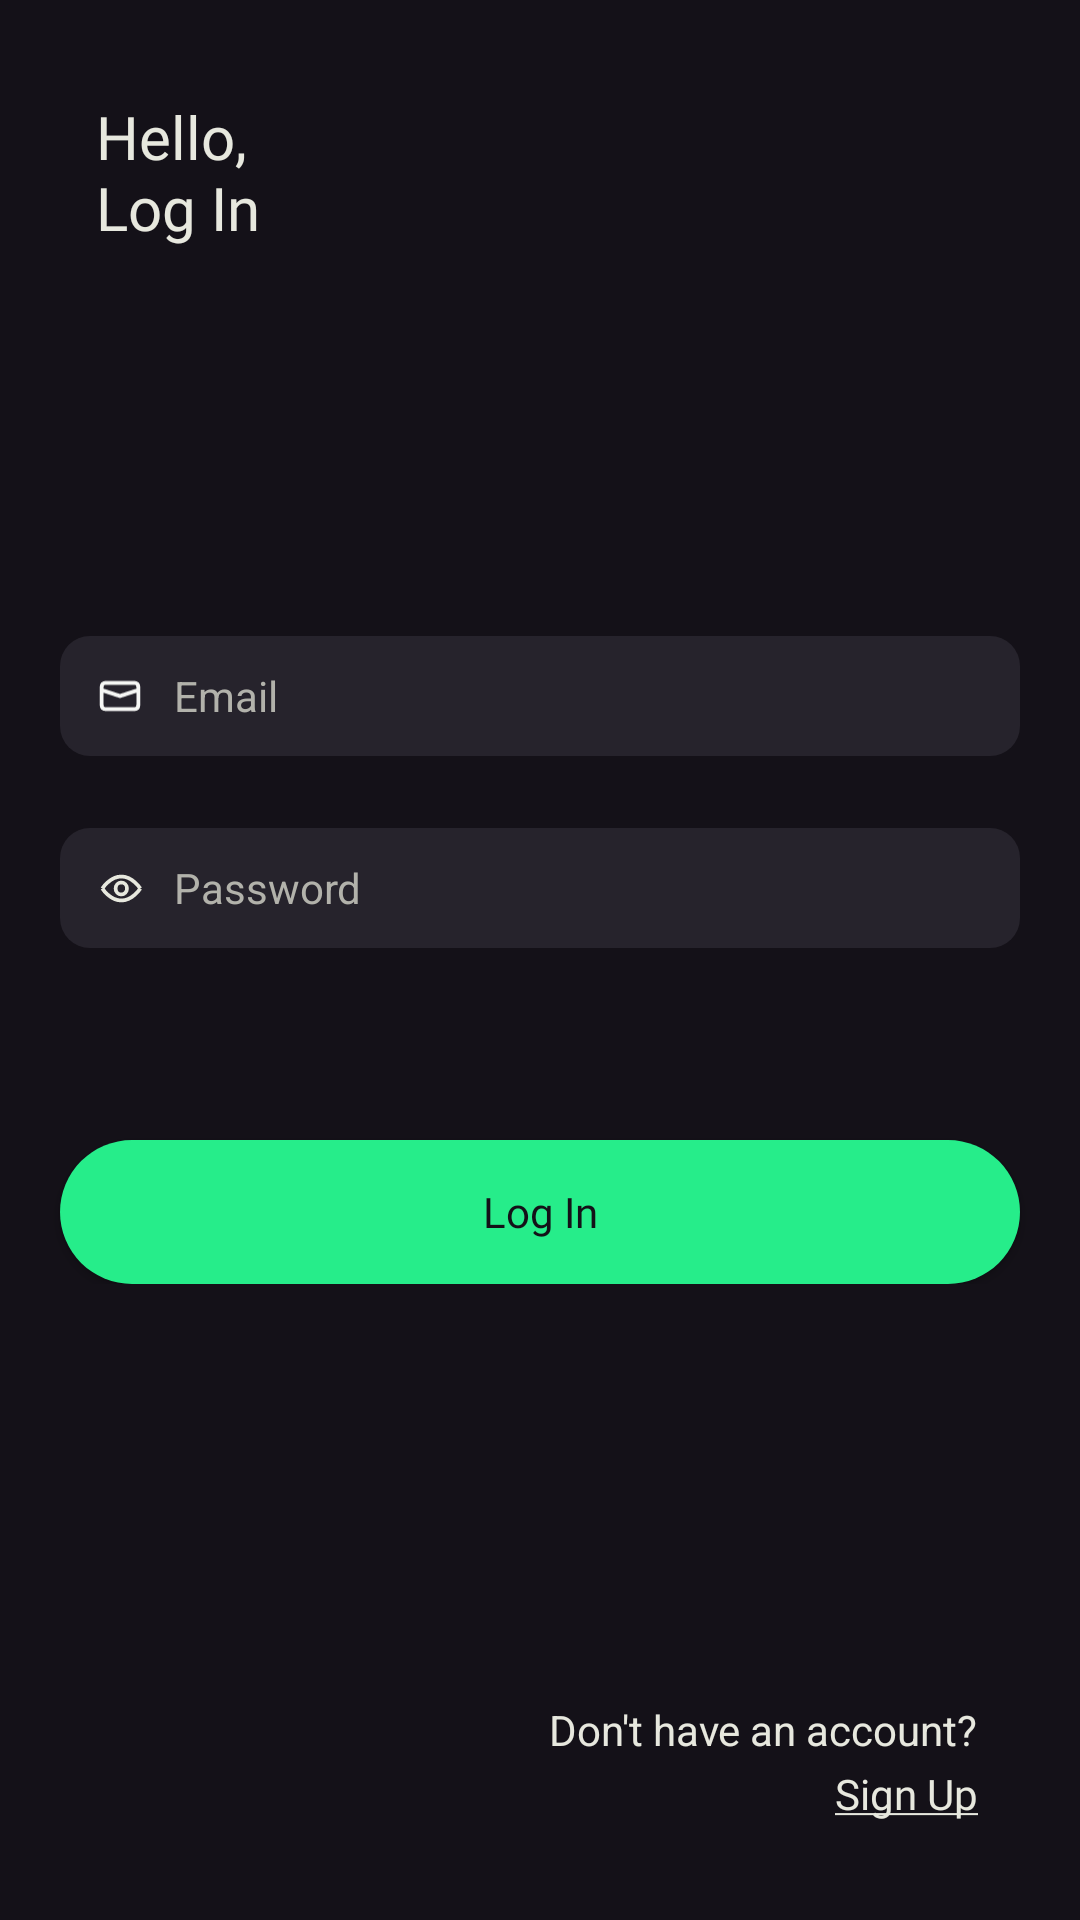

Where icons sit on this 1080w x 1920h app screen, as (x1, y1, x2, y2):
eye: (101, 874, 142, 903)
letter: (99, 680, 141, 712)
